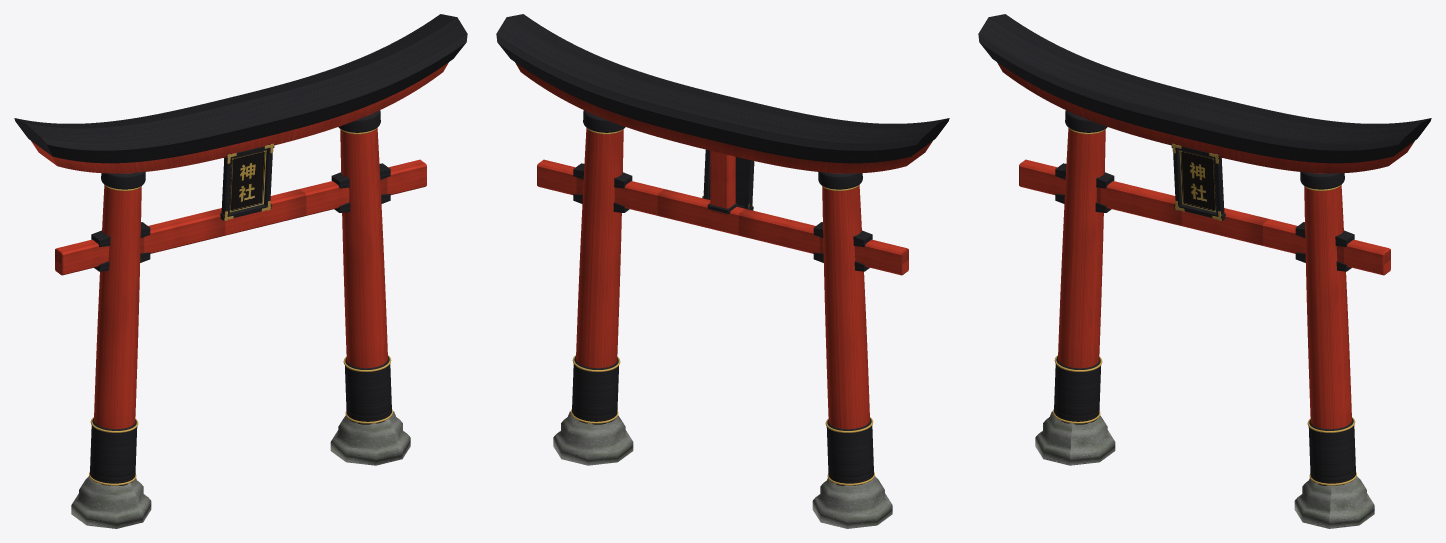
File: torii-gate.glb
The picture shows the model from 3 angles, left to right: view 1: azimuth 30°, elevation 25°; view 2: azimuth 150°, elevation 25°; view 3: azimuth 330°, elevation 25°; orthographic projection.
Parts seen in each view (by area): view 1: Kasagi_CurvedTopCap, Hashira_Pillar_Left, Hashira_Pillar_Right, Nuki_LowerTieBeam, Shimaki_LowerUpperLintel, Kamebara_Pedestal_Left, Kamebara_Pedestal_Right, Nemaki_BaseWrap_Left, Nemaki_BaseWrap_Right, Plaque_Calligraphy_Face, Hengaku_Nameplate_Plaque, Daiwa_TopCollar_Left (+1 smaller); view 2: Kasagi_CurvedTopCap, Hashira_Pillar_Left, Hashira_Pillar_Right, Nuki_LowerTieBeam, Shimaki_LowerUpperLintel, Kamebara_Pedestal_Left, Kamebara_Pedestal_Right, Nemaki_BaseWrap_Left, Nemaki_BaseWrap_Right, Gakuzuka_CentralStrut, Hengaku_Nameplate_Plaque, Daiwa_TopCollar_Left (+2 smaller); view 3: Kasagi_CurvedTopCap, Hashira_Pillar_Right, Hashira_Pillar_Left, Nuki_LowerTieBeam, Shimaki_LowerUpperLintel, Kamebara_Pedestal_Right, Kamebara_Pedestal_Left, Nemaki_BaseWrap_Right, Nemaki_BaseWrap_Left, Plaque_Calligraphy_Face, Hengaku_Nameplate_Plaque, Daiwa_TopCollar_Right (+1 smaller).
Boxes of the visible parts, x1=… form: Kasagi_CurvedTopCap: x1=14, y1=14, x2=467, y2=163; Hashira_Pillar_Left: x1=94, y1=173, x2=141, y2=429; Hashira_Pillar_Right: x1=340, y1=113, x2=387, y2=368; Nuki_LowerTieBeam: x1=55, y1=159, x2=426, y2=275; Shimaki_LowerUpperLintel: x1=31, y1=62, x2=448, y2=173; Kamebara_Pedestal_Left: x1=71, y1=476, x2=151, y2=528; Kamebara_Pedestal_Right: x1=330, y1=411, x2=410, y2=465; Nemaki_BaseWrap_Left: x1=90, y1=418, x2=137, y2=485; Nemaki_BaseWrap_Right: x1=345, y1=356, x2=391, y2=424; Plaque_Calligraphy_Face: x1=229, y1=150, x2=266, y2=212; Hengaku_Nameplate_Plaque: x1=220, y1=143, x2=274, y2=220; Daiwa_TopCollar_Left: x1=101, y1=172, x2=145, y2=189; Kasagi_CurvedTopCap: x1=496, y1=14, x2=949, y2=163; Hashira_Pillar_Left: x1=822, y1=173, x2=869, y2=429; Hashira_Pillar_Right: x1=576, y1=113, x2=623, y2=368; Nuki_LowerTieBeam: x1=537, y1=159, x2=908, y2=275; Shimaki_LowerUpperLintel: x1=515, y1=62, x2=932, y2=173; Kamebara_Pedestal_Left: x1=812, y1=476, x2=892, y2=528; Kamebara_Pedestal_Right: x1=553, y1=411, x2=633, y2=465; Nemaki_BaseWrap_Left: x1=826, y1=418, x2=873, y2=485; Nemaki_BaseWrap_Right: x1=572, y1=356, x2=618, y2=424; Gakuzuka_CentralStrut: x1=710, y1=150, x2=735, y2=214; Hengaku_Nameplate_Plaque: x1=702, y1=149, x2=754, y2=210; Daiwa_TopCollar_Left: x1=818, y1=172, x2=862, y2=189; Kasagi_CurvedTopCap: x1=978, y1=14, x2=1431, y2=163; Hashira_Pillar_Right: x1=1304, y1=173, x2=1351, y2=429; Hashira_Pillar_Left: x1=1058, y1=113, x2=1105, y2=368; Nuki_LowerTieBeam: x1=1019, y1=159, x2=1390, y2=275; Shimaki_LowerUpperLintel: x1=997, y1=62, x2=1414, y2=173; Kamebara_Pedestal_Right: x1=1294, y1=476, x2=1374, y2=528; Kamebara_Pedestal_Left: x1=1035, y1=411, x2=1115, y2=465; Nemaki_BaseWrap_Right: x1=1308, y1=418, x2=1355, y2=485; Nemaki_BaseWrap_Left: x1=1054, y1=356, x2=1100, y2=424; Plaque_Calligraphy_Face: x1=1179, y1=150, x2=1216, y2=212; Hengaku_Nameplate_Plaque: x1=1171, y1=143, x2=1225, y2=220; Daiwa_TopCollar_Right: x1=1300, y1=172, x2=1344, y2=189.
Size of the model in its own units: 5.34 by 4.84 by 0.7945.
5 materials, 4 textured.
